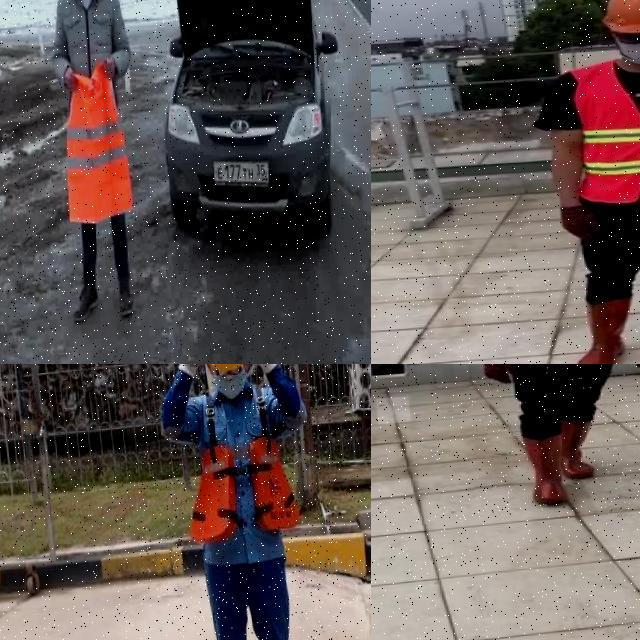boots: (574, 299, 635, 364), (520, 434, 570, 506), (559, 421, 598, 482)
helmet: (597, 0, 640, 43)
vest: (185, 436, 303, 546), (61, 55, 136, 228), (574, 56, 640, 208)
